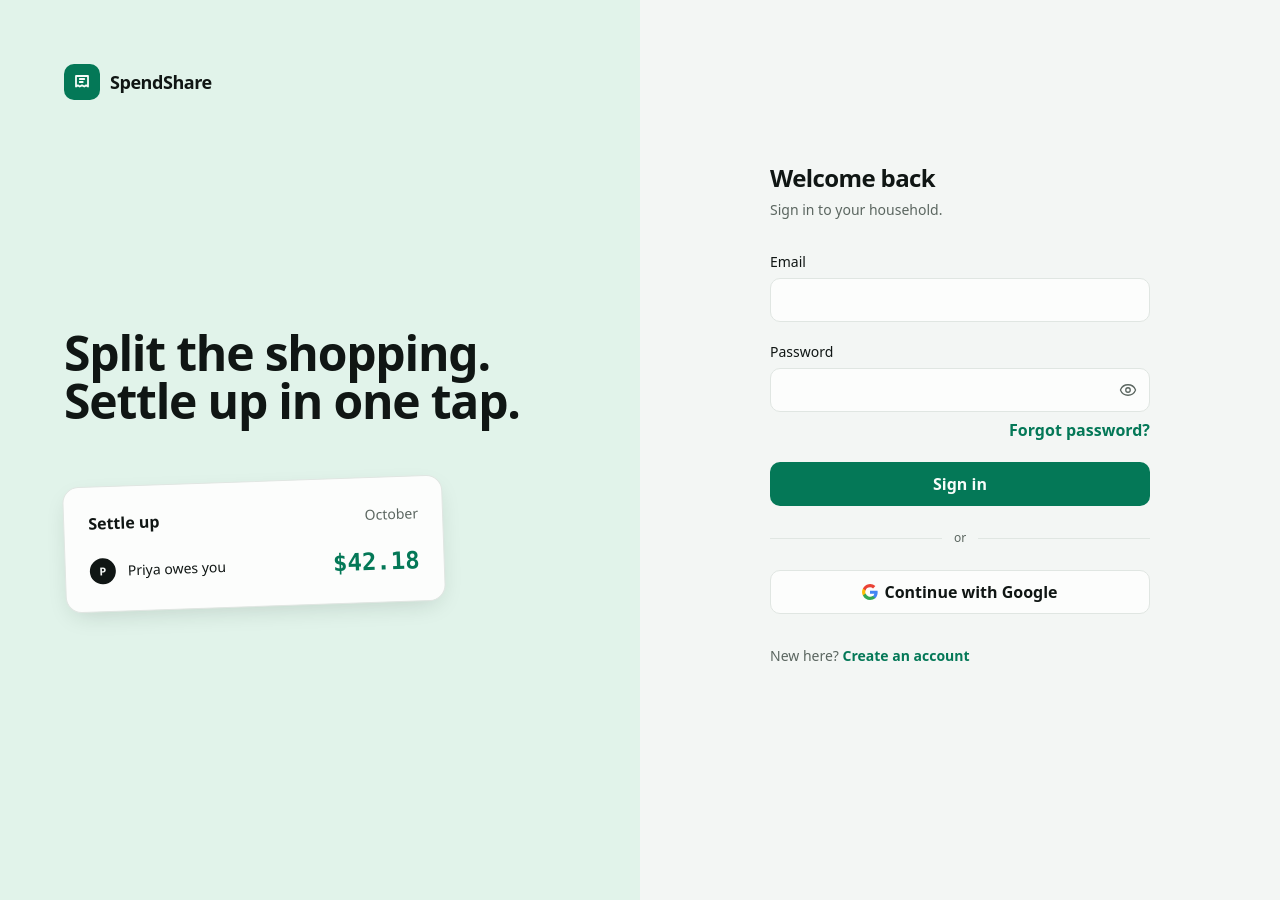
it: SignIn › sign in mode › disables the button and says what it is doing while signing in
In the field labelled "Email": (960, 300) [770,278,1150,322], type "alice@example.com"
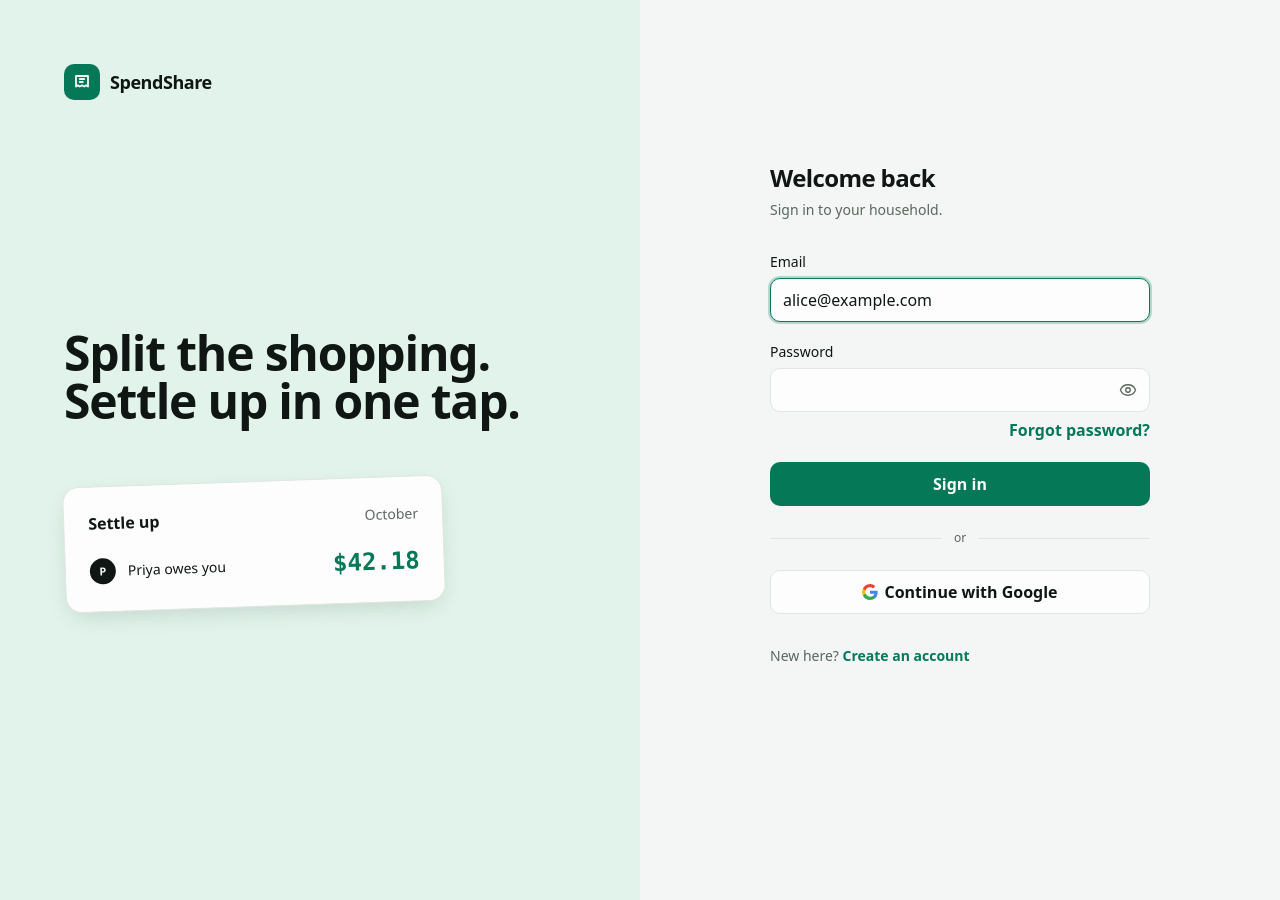
In the password field labelled "Password": (960, 390) [770,368,1150,412], type "hunter2"
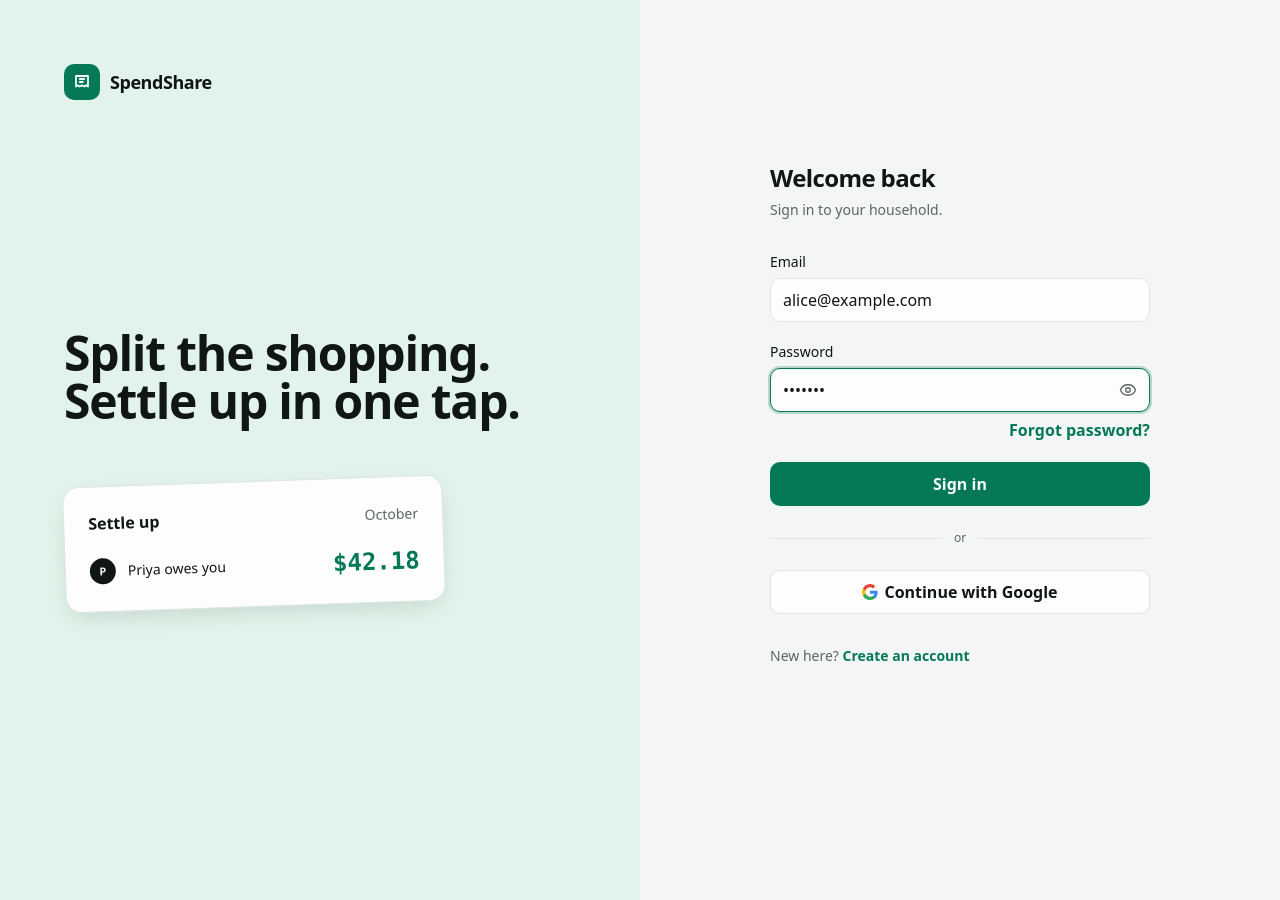
Click the button "Sign in": (960, 484) [770,462,1150,506]
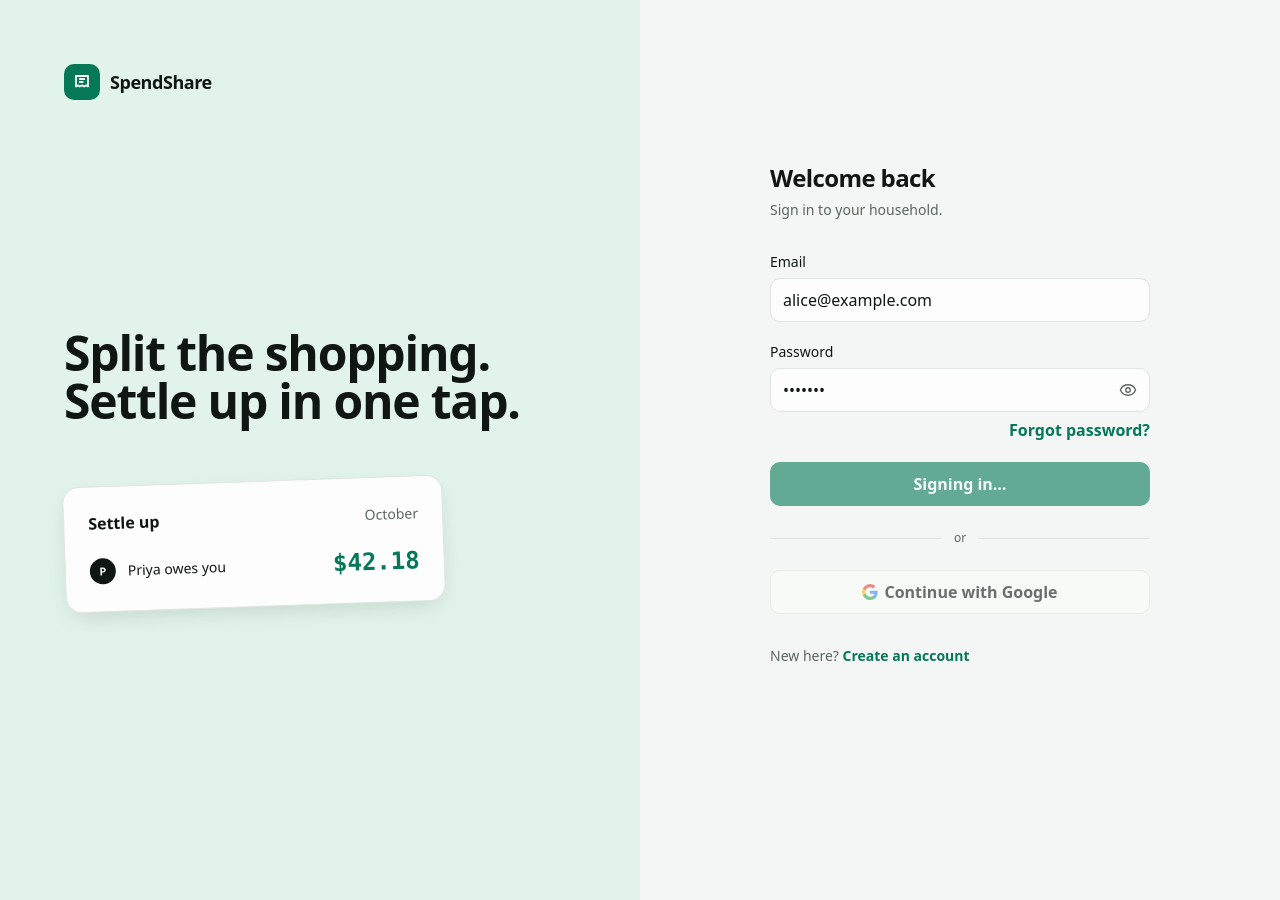
Expected: the button "Signing in…" is disabled, [770,462,1150,506]
